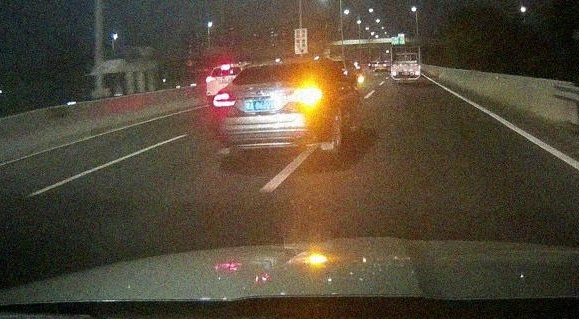L_light: (212, 92, 237, 108)
R_light: (295, 88, 323, 104)
T_light: (268, 64, 287, 69)
night-right: (211, 57, 333, 155)
